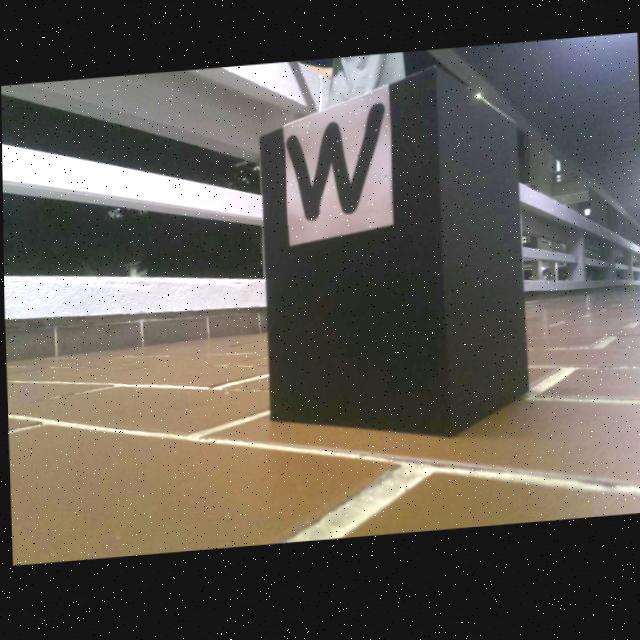W: (285, 105, 387, 226)
